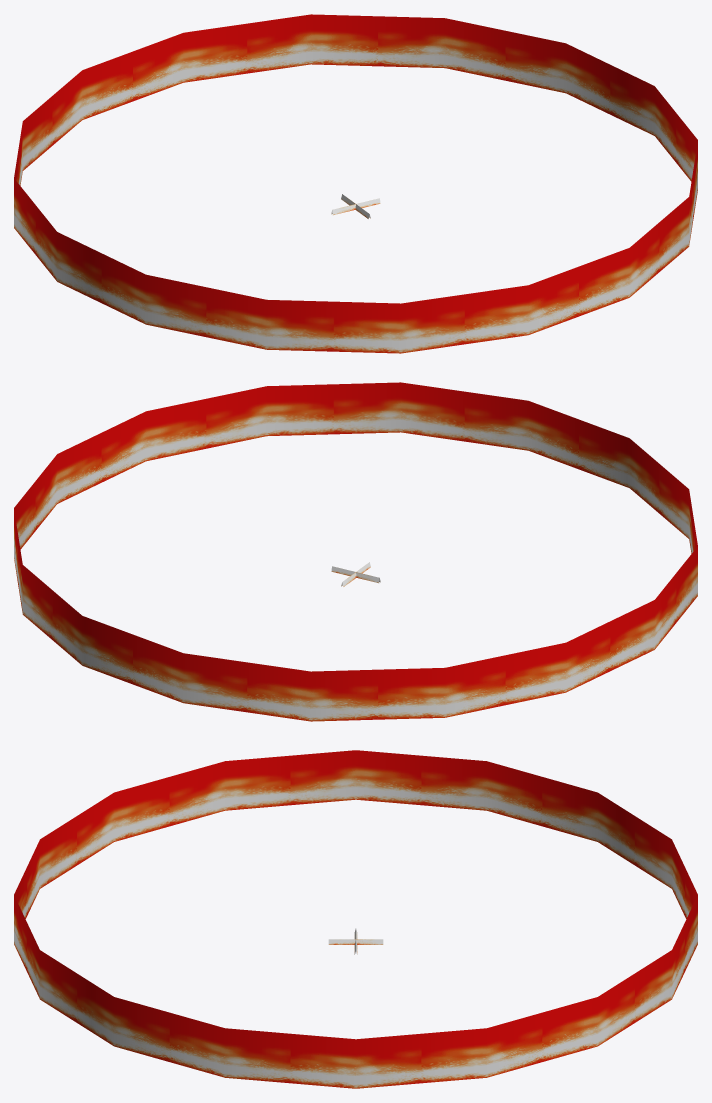
Rendered from godclient_cylinder_25m.fbx.
3 views of the same model, one above another, from view 1: azimuth 30°, elevation 25°; view 2: azimuth 150°, elevation 25°; view 3: azimuth 270°, elevation 25° (orthographic).
Visible parts, largest first — view 1: mesh_node; view 2: mesh_node; view 3: mesh_node.
Boxes of the visible parts, x1=… form: mesh_node: x1=14, y1=14, x2=697, y2=353; mesh_node: x1=14, y1=382, x2=697, y2=721; mesh_node: x1=14, y1=750, x2=697, y2=1088.
Bounding box in the file's own units: 25 × 2 × 25.
Materials: 1 (1 with a texture image).
